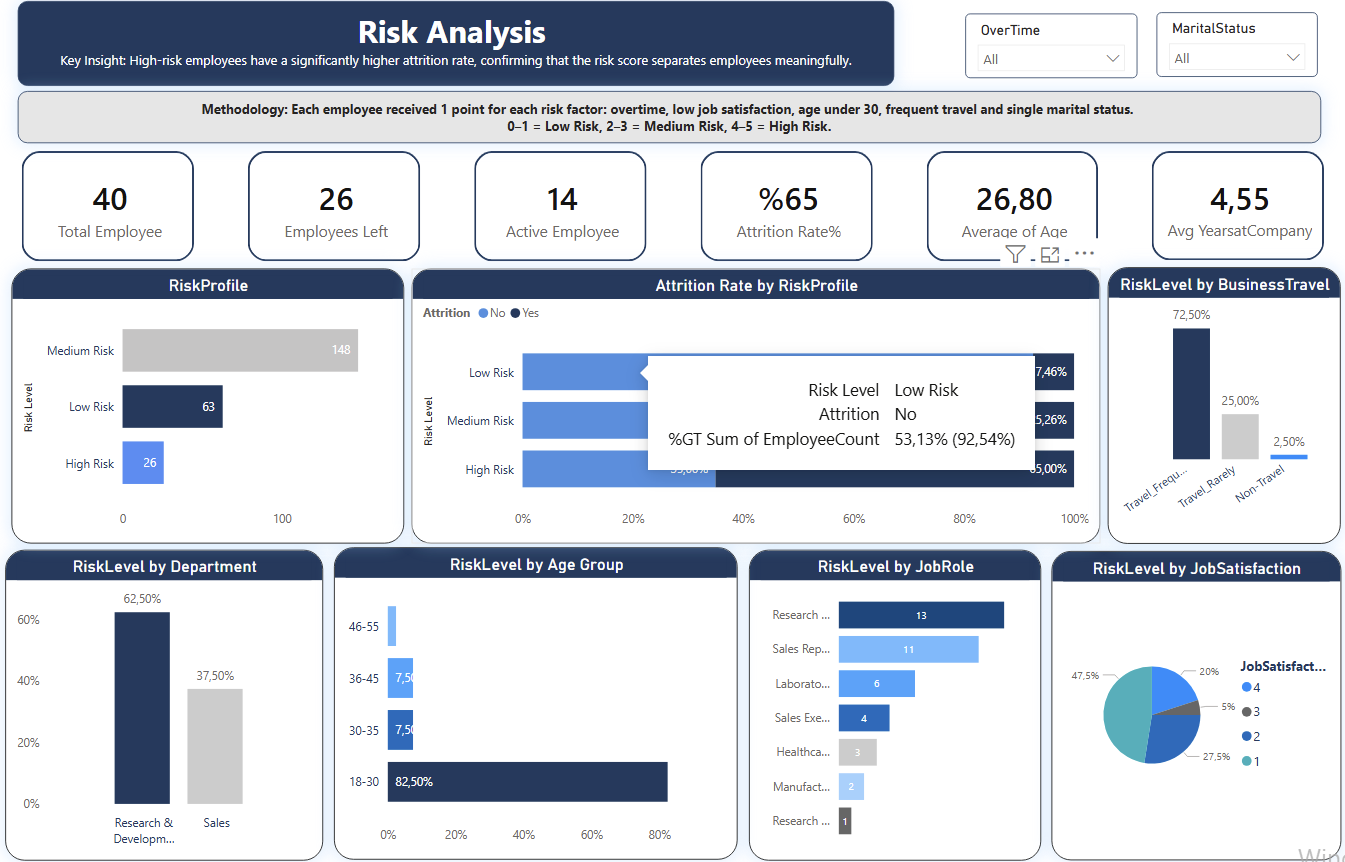

Layout of this report page (visuals, bound fields, positions):
{"tool":"powerbi","page":{"name":"Risk Analysis","canvas":[1400,900],"ordinal":3},"visuals":[{"type":"cardVisual","fields":{"Data":["Sum(HR-Employee-Attrition.EmployeeCount)"]},"box":[11.6,147.9,211.7,147.9],"z":0},{"type":"cardVisual","fields":{"Data":["HR-Employee-Attrition.Attrition Yes"]},"box":[243.9,147.9,211.7,147.9],"z":1000},{"type":"cardVisual","fields":{"Data":["HR-Employee-Attrition.Attrition No"]},"box":[476.1,147.9,211.7,147.9],"z":2000},{"type":"cardVisual","fields":{"Data":["HR-Employee-Attrition.Attrition Rate%"]},"box":[708.4,147.9,211.7,147.9],"z":3000},{"type":"cardVisual","fields":{"Data":["Avg(HR-Employee-Attrition.Age)"]},"box":[940.7,147.9,210.2,147.9],"z":4000},{"type":"cardVisual","fields":{"Data":["Avg(HR-Employee-Attrition.YearsAtCompany)"]},"box":[1171.5,147.9,211.7,146.4],"z":5000},{"type":"columnChart","title":"RiskLevel by Department","fields":{"Category":["HR-Employee-Attrition.Department"],"Y":["Sum(HR-Employee-Attrition.EmployeeCount)"]},"box":[11.6,573.2,326.2,319],"z":6000},{"type":"barChart","title":"RiskLevel by JobRole","fields":{"Y":["Sum(HR-Employee-Attrition.EmployeeCount)"],"Series":["HR-Employee-Attrition.JobRole"],"Category":["HR-Employee-Attrition.JobRole"]},"box":[774.7,573.2,300.1,319],"z":7000},{"type":"barChart","title":"RiskLevel by Age Group","fields":{"Category":["HR-Employee-Attrition.Age Group"],"Y":["Sum(HR-Employee-Attrition.EmployeeCount)"]},"box":[348.9,571.7,414.7,320.4],"z":8000},{"type":"barChart","title":"RiskProfile","fields":{"Category":["HR-Employee-Attrition.Risk Level"],"Y":["HR-Employee-Attrition.Attrition Yes"]},"box":[17.4,284.6,403.1,282.7],"z":9000},{"type":"pieChart","title":"RiskLevel by JobSatisfaction","fields":{"Category":["HR-Employee-Attrition.JobSatisfaction"],"Y":["Sum(HR-Employee-Attrition.EmployeeCount)"]},"box":[1086,574.6,297.2,317.5],"z":10000},{"type":"hundredPercentStackedBarChart","title":"Attrition Rate by RiskProfile","fields":{"Category":["HR-Employee-Attrition.Risk Level"],"Series":["HR-Employee-Attrition.Attrition"],"Y":["Sum(HR-Employee-Attrition.EmployeeCount)"]},"box":[428.4,284.6,707.5,282.7],"z":11000},{"type":"columnChart","title":"RiskLevel by BusinessTravel","fields":{"Category":["HR-Employee-Attrition.BusinessTravel"],"Y":["Sum(HR-Employee-Attrition.EmployeeCount)"]},"box":[1144,283.2,239.2,284.2],"z":12000},{"type":"slicer","fields":{"Values":["HR-Employee-Attrition.OverTime"]},"box":[997.5,23.2,176.9,66.7],"z":13000},{"type":"slicer","fields":{"Values":["HR-Employee-Attrition.MaritalStatus"]},"box":[1194,22.2,165.7,66.6],"z":14000},{"type":"textbox","box":[23.9,10.2,900.2,87.1],"z":15000},{"type":"textbox","box":[24.6,102.9,1338.2,53.6],"z":16000}]}

Visuals, with their boxes in screenshot pixels (x1, y1, x2, y2), scaled from the page's 1400x900 canvas onto the 1345x862 screenshot:
cardVisual - Sum(HR-Employee-Attrition.EmployeeCount): 11 142 215 283
cardVisual - HR-Employee-Attrition.Attrition Yes: 234 142 438 283
cardVisual - HR-Employee-Attrition.Attrition No: 457 142 661 283
cardVisual - HR-Employee-Attrition.Attrition Rate%: 681 142 884 283
cardVisual - Avg(HR-Employee-Attrition.Age): 904 142 1106 283
cardVisual - Avg(HR-Employee-Attrition.YearsAtCompany): 1125 142 1329 282
"RiskLevel by Department" columnChart: 11 549 325 855
"RiskLevel by JobRole" barChart: 744 549 1033 855
"RiskLevel by Age Group" barChart: 335 548 734 854
"RiskProfile" barChart: 17 273 404 543
"RiskLevel by JobSatisfaction" pieChart: 1043 550 1329 854
"Attrition Rate by RiskProfile" hundredPercentStackedBarChart: 412 273 1091 543
"RiskLevel by BusinessTravel" columnChart: 1099 271 1329 543
slicer - HR-Employee-Attrition.OverTime: 958 22 1128 86
slicer - HR-Employee-Attrition.MaritalStatus: 1147 21 1306 85
textbox: 23 10 888 93
textbox: 24 99 1309 150
